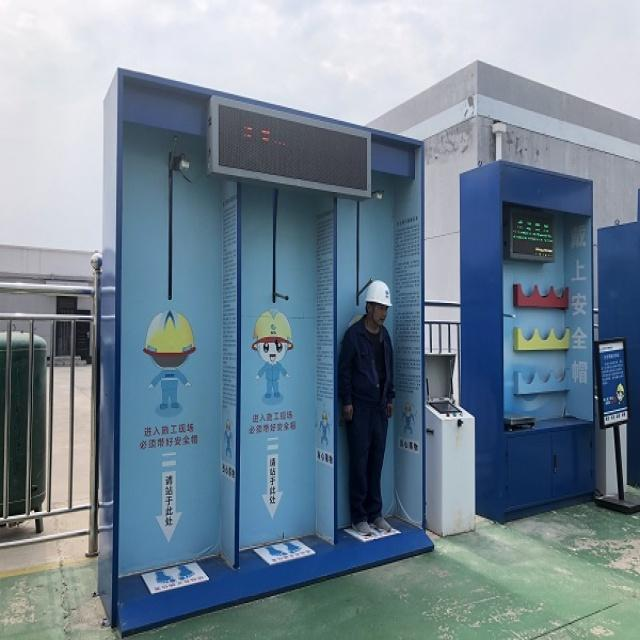helmet: (362, 368, 395, 439)
